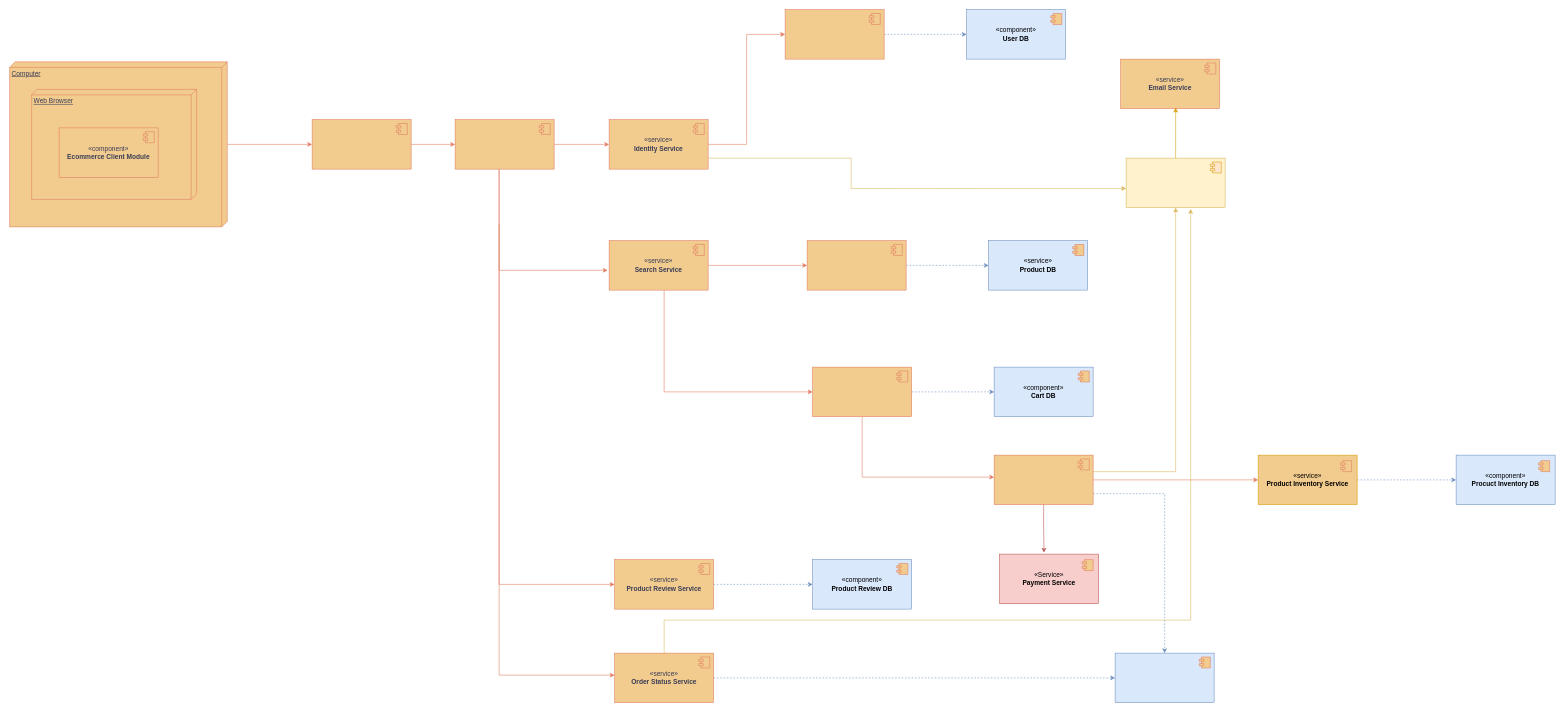
This 1565x712 diagram has some shape labels left out. The centre of each missing label's shape, as x and y in pixels:
«component» Message Queue: (x=1175, y=183)
«component» Order DB: (x=1164, y=678)
«service» Add to cart service: (x=862, y=392)
«service» ApiGateway: (x=504, y=144)
«service» Keycloak: (x=834, y=34)
«service» NGINX: (x=361, y=144)
«service» Place Order Service: (x=1043, y=480)
«service» Product Management: (x=856, y=265)
